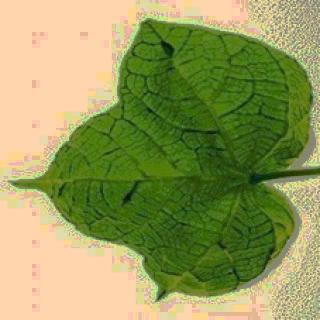curl: (32, 8, 296, 290)
